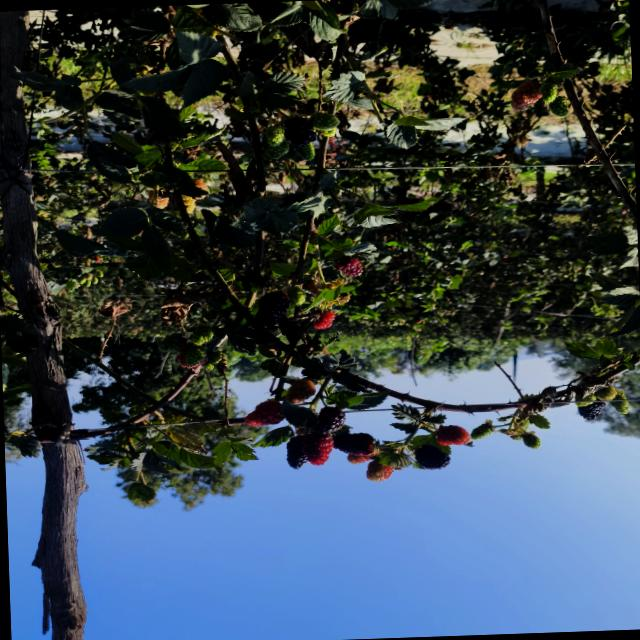maduro: (255, 291, 290, 327), (332, 432, 377, 456), (414, 444, 450, 469), (284, 118, 316, 146), (312, 406, 345, 433), (287, 436, 307, 468), (578, 401, 605, 420)
marron: (334, 255, 362, 276)
naranja: (244, 400, 284, 426), (302, 432, 333, 464), (510, 80, 541, 111), (285, 379, 315, 403), (436, 425, 470, 445), (366, 460, 393, 481), (313, 310, 335, 328), (347, 454, 371, 464)
verde: (311, 111, 339, 132), (158, 333, 187, 352), (264, 139, 289, 159), (185, 345, 205, 367), (190, 326, 213, 345), (264, 125, 284, 146), (549, 96, 568, 117), (470, 422, 493, 439), (203, 350, 222, 370), (540, 81, 558, 102), (296, 142, 315, 160), (594, 386, 617, 400), (520, 433, 540, 448), (611, 400, 630, 414), (576, 393, 596, 406)
